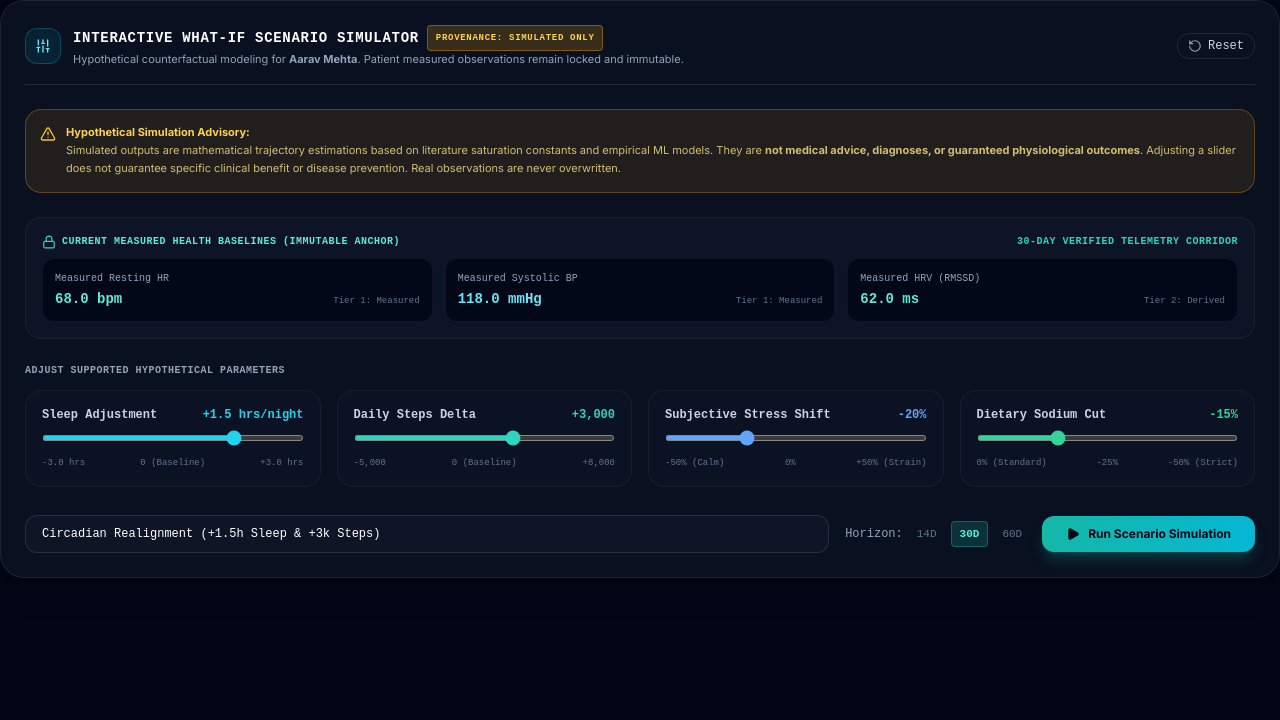
Test case: Interactive What-If Simulator Workspace (Step 8) › executes simulation and displays side-by-side comparison, model version, and output classifications
What coordinates should you click on to do the following:
click the button "Run Scenario Simulation"
I would click on:
 (1149, 534)
Its box is [1042, 516, 1255, 552].
(page scrolled)
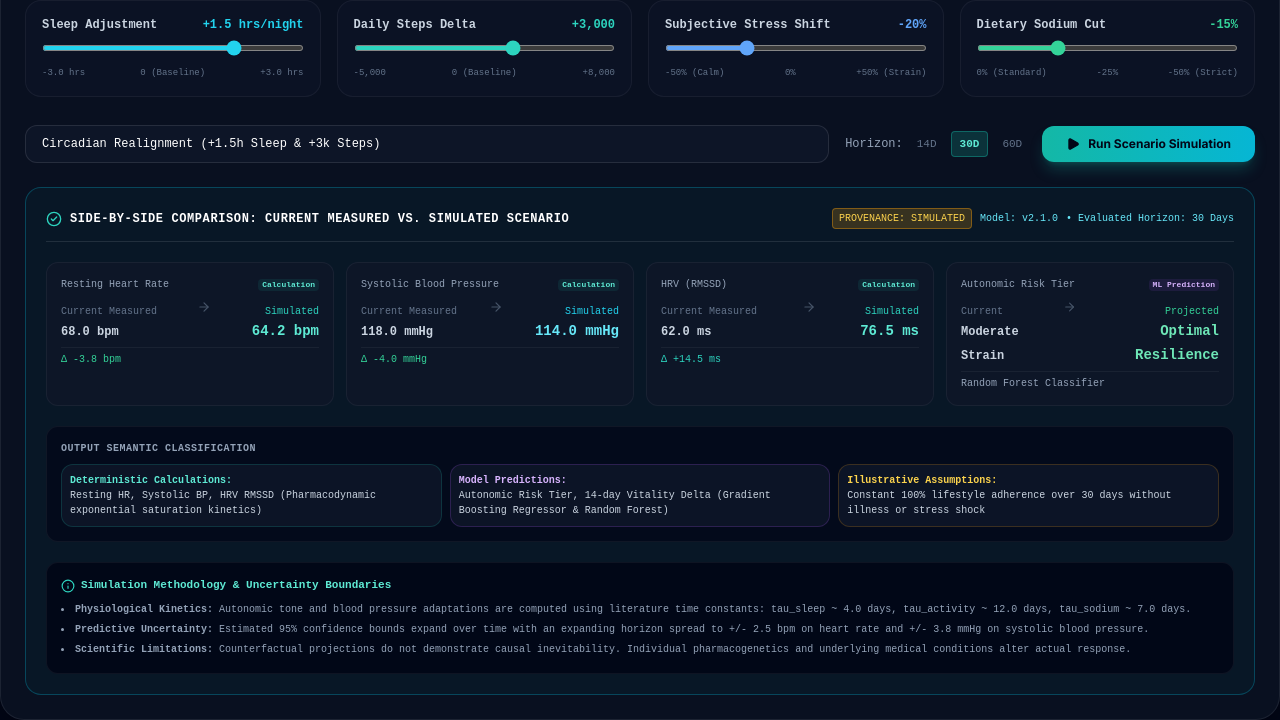
Result: the heading "Side-by-Side Comparison: Current Measured vs. Simulated Scenario" is shown at [70, 211, 569, 227]
Result: the text "64.2 bpm" is shown at [252, 323, 319, 339]
Result: the text "114.0 mmHg" is shown at [535, 323, 619, 339]
